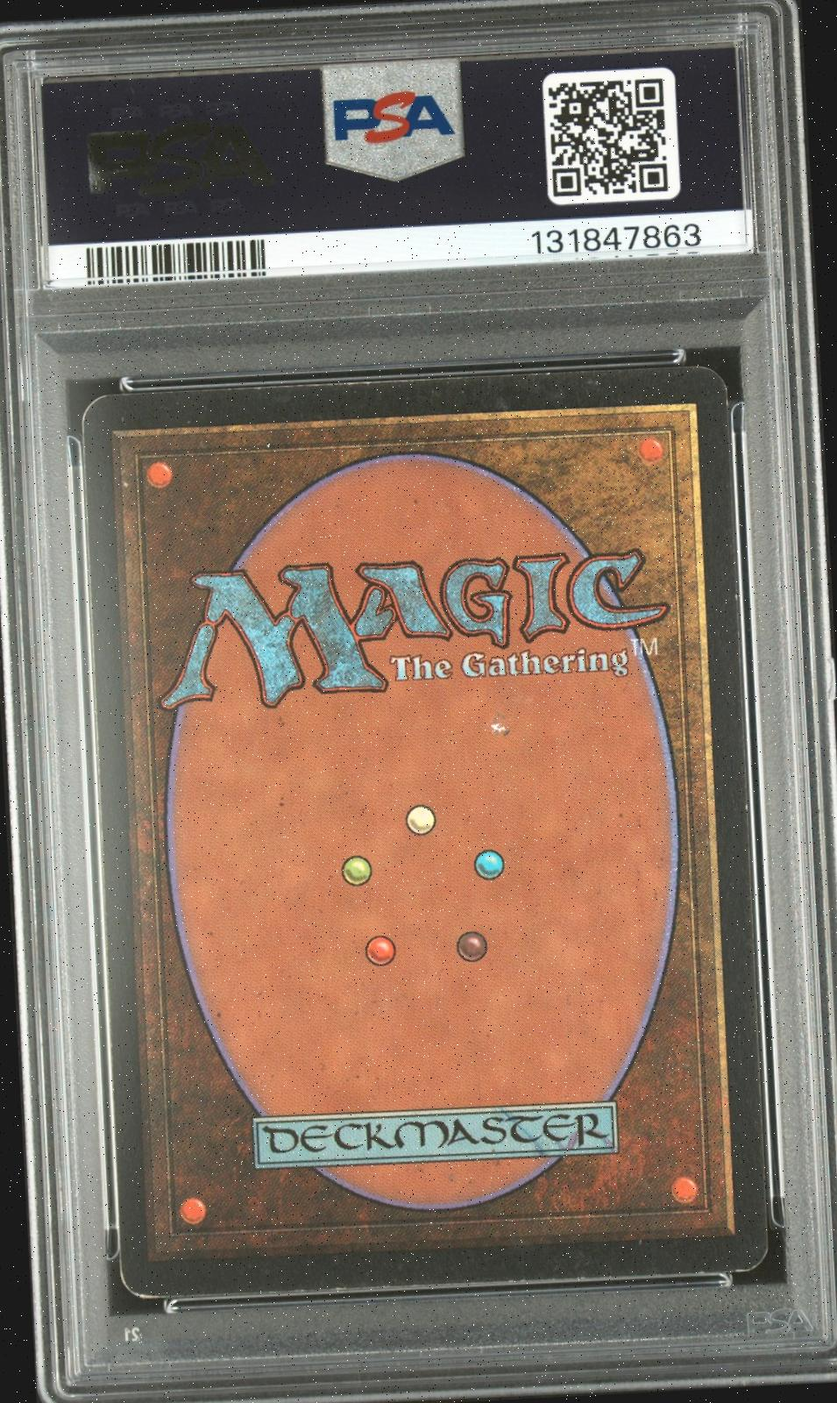card-2UtV: (81, 365, 768, 1299)
